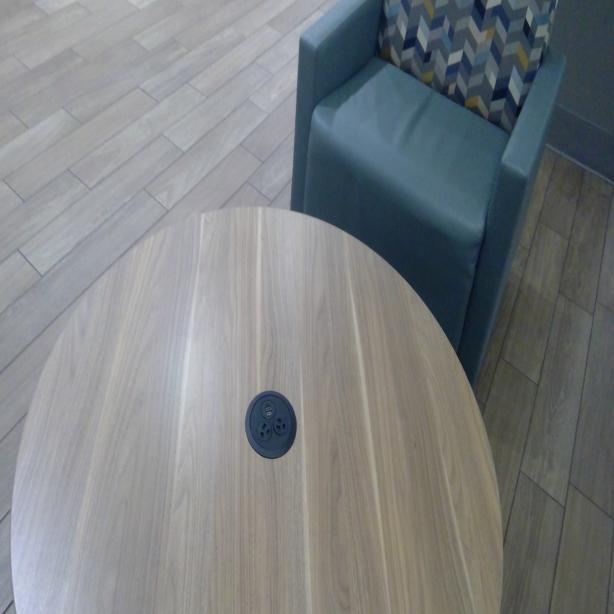typeb: (258, 419, 272, 443), (275, 416, 288, 436)
